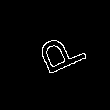P_SW: (24, 28, 86, 82)
